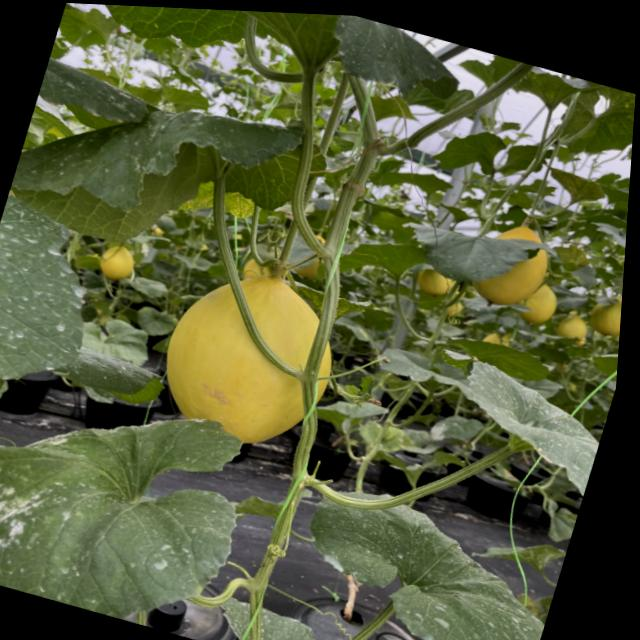downy mildew: (0, 60, 310, 285), (444, 354, 616, 495)
powdery mildew: (0, 349, 278, 640), (286, 480, 571, 640)
